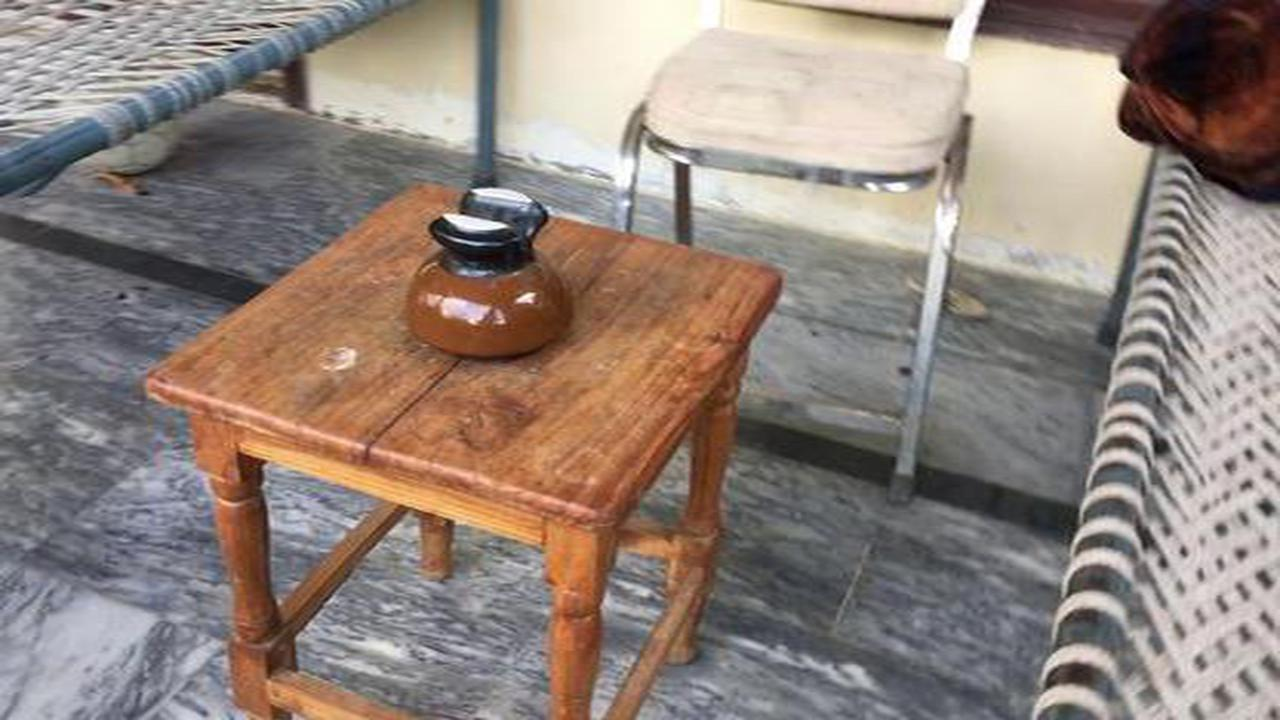insulator_pin: (376, 177, 601, 376)
